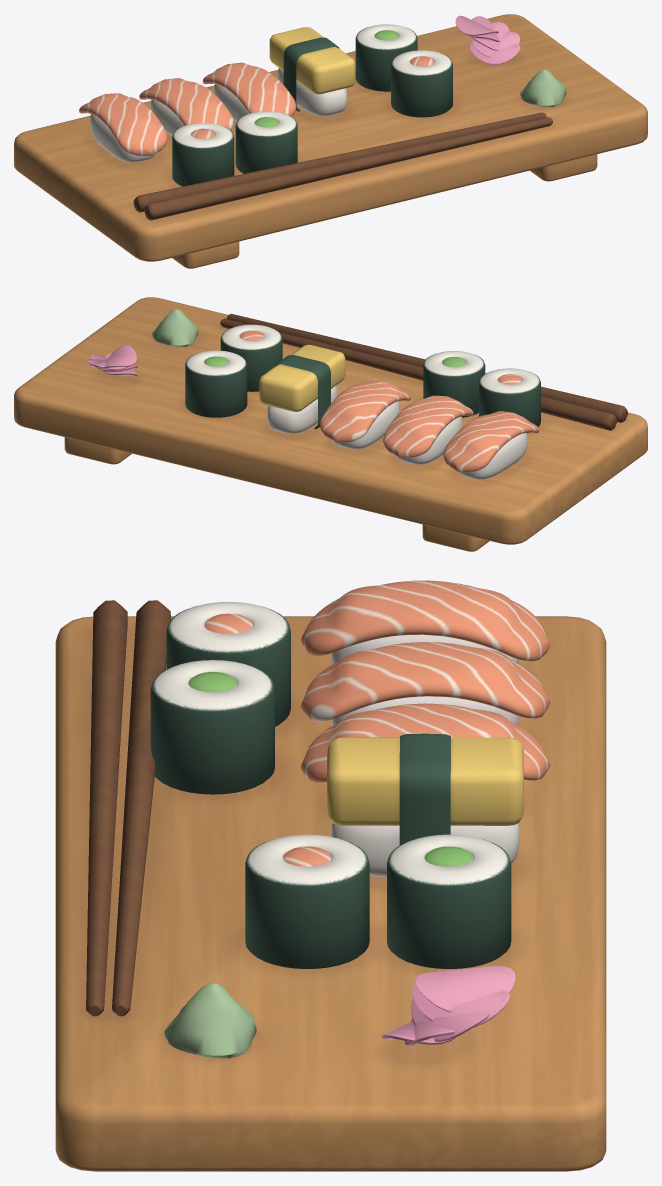
The model's file is sushi-platter.glb.
3 renders of one model, top to bottom at view 1: azimuth 30°, elevation 25°; view 2: azimuth 150°, elevation 25°; view 3: azimuth 270°, elevation 25°, orthographic. The views are drawn at different scales.
Visible parts, largest first — view 1: sushi-set_body; view 2: sushi-set_body; view 3: sushi-set_body.
Part boxes in pixels (x1,y1,x2,y2): sushi-set_body: (14,14,647,268); sushi-set_body: (14,297,647,551); sushi-set_body: (55,580,606,1171).
Size of the model in its own units: 0.3 by 0.0626 by 0.14.
1 material, 1 textured.
